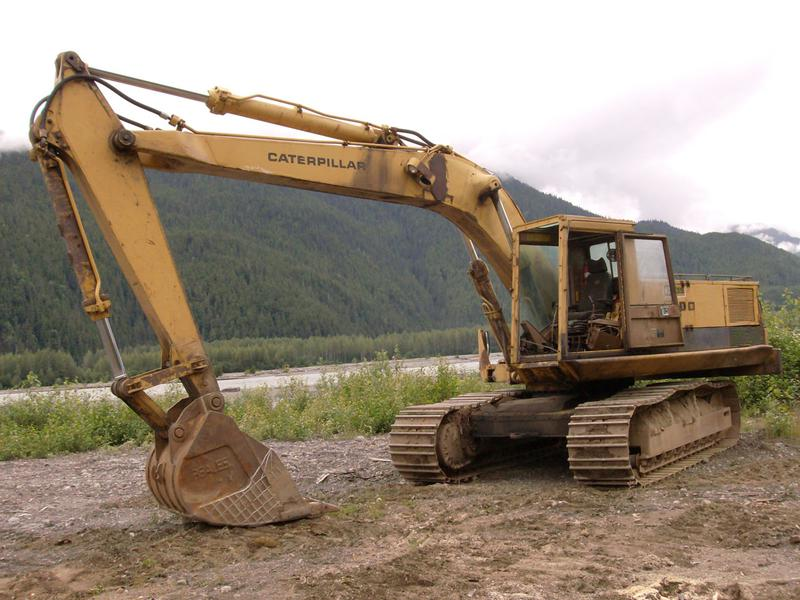shovel: (20, 42, 786, 542)
